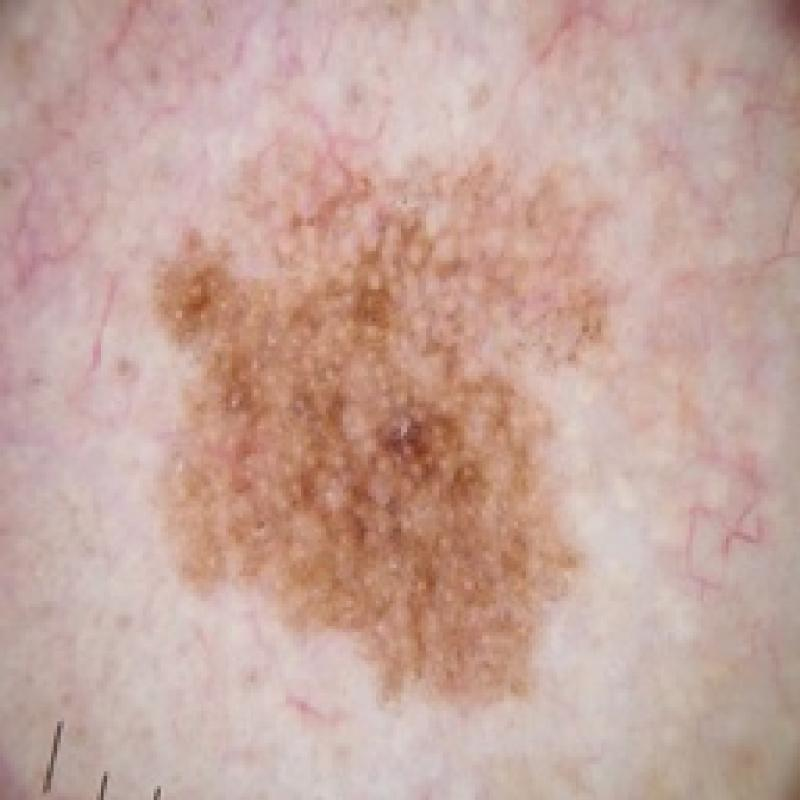malignant: (140, 135, 689, 707)
